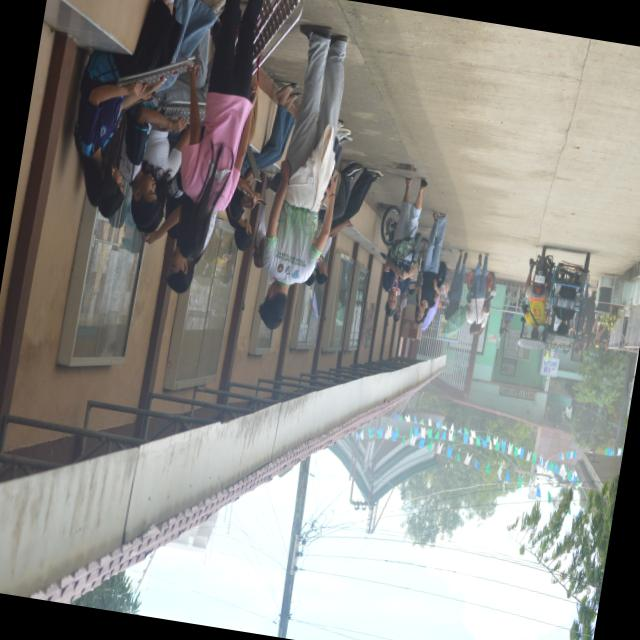person: (259, 24, 347, 329), (75, 0, 183, 205), (178, 0, 263, 258), (316, 168, 383, 284), (166, 210, 217, 292), (254, 82, 300, 168), (415, 212, 446, 323), (522, 258, 549, 338), (395, 178, 427, 239), (466, 253, 488, 333), (445, 250, 467, 319)
